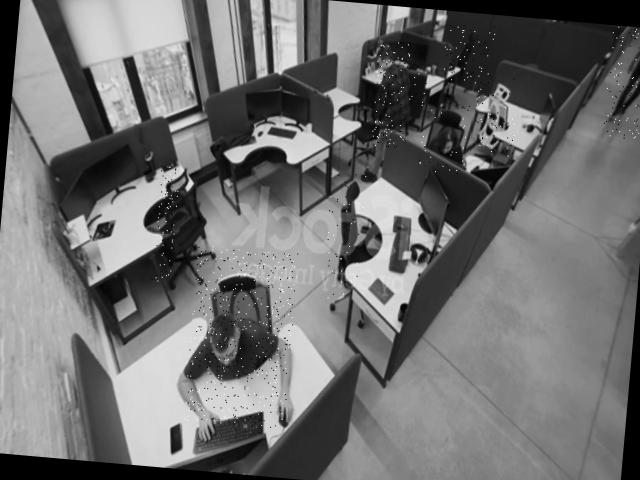empty chair: (182, 245, 298, 429), (321, 168, 366, 300), (468, 73, 520, 158), (440, 21, 496, 85), (151, 165, 180, 282), (402, 62, 428, 128)
occupiedchair: (418, 99, 470, 175)
